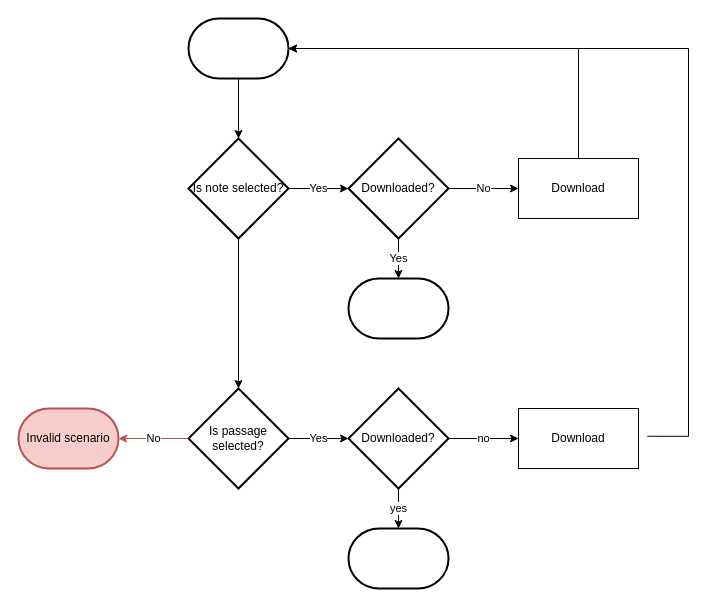
The diagram is 714 pixels wide and 606 high, and some of its shapes have lost their labels. Each missing label, with the centre of its shape:
"Show downloaded Note details" goes at (x=398, y=308).
"Show empty note, defaulted to passage start / end" goes at (x=398, y=558).
"Start" goes at (x=238, y=48).
